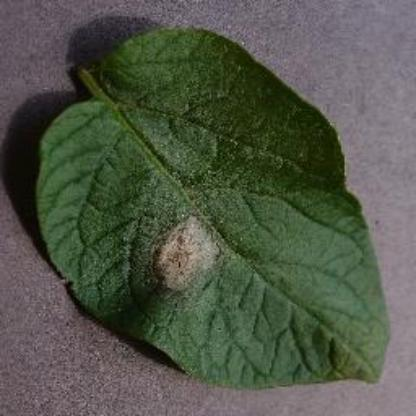Late-Blight: (20, 21, 400, 401)
